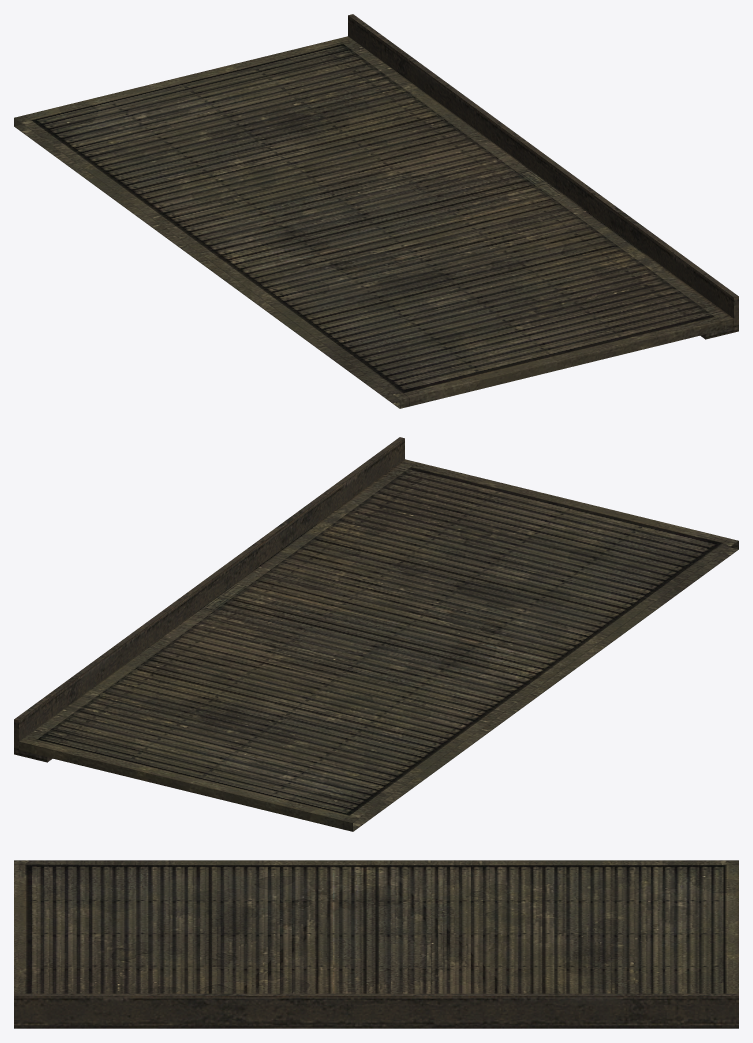
The model's file is platform_cx_1.obj.
3 renders of one model, top to bottom at view 1: azimuth 30°, elevation 25°; view 2: azimuth 150°, elevation 25°; view 3: azimuth 270°, elevation 25°, orthographic. The views are drawn at different scales.
Parts seen in each view (by area): view 1: platform_cx_1; view 2: platform_cx_1; view 3: platform_cx_1.
Part boxes in pixels (bbox=[...]): platform_cx_1: bbox=[14, 14, 738, 408]; platform_cx_1: bbox=[14, 437, 738, 831]; platform_cx_1: bbox=[14, 860, 738, 1028].
Size of the model in its own units: 2.03 by 0.2 by 4.
